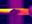Hotspot: (0, 9, 12, 13)
